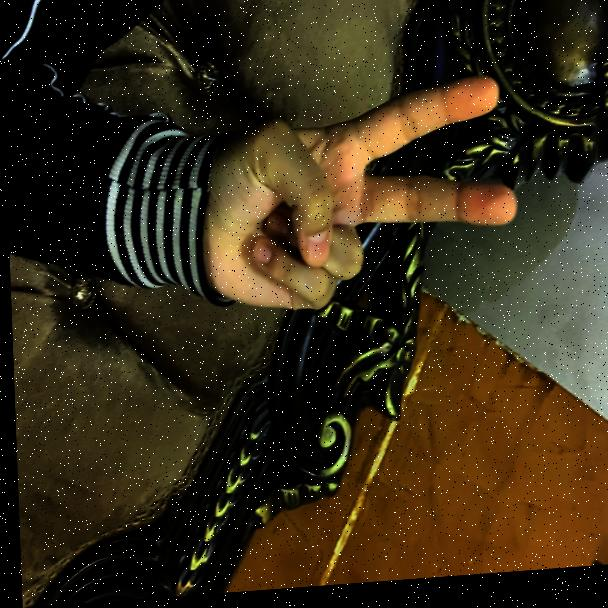two: (189, 43, 523, 340)
